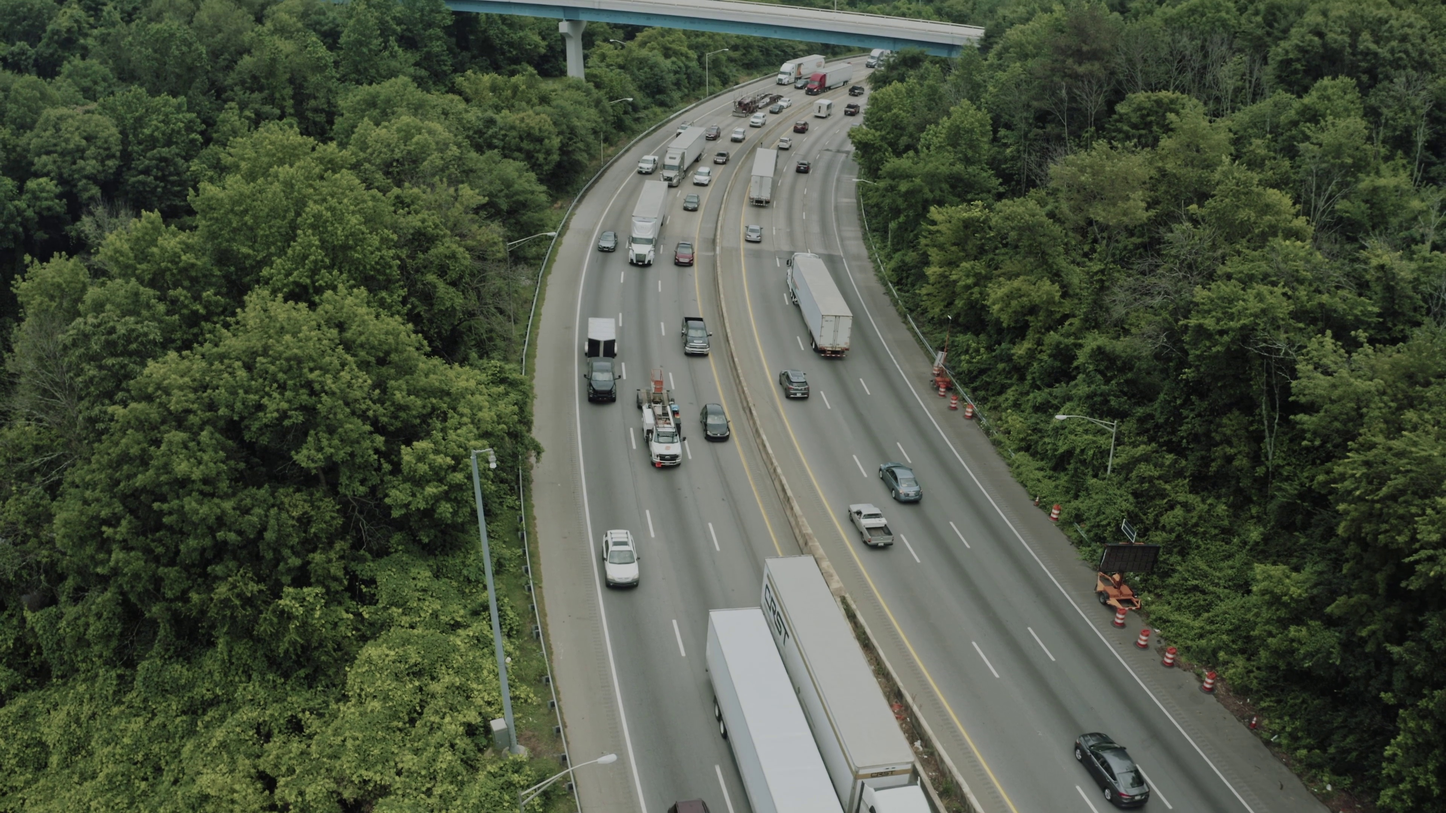Vehicle: (1074, 732, 1150, 810), (631, 373, 686, 468), (855, 763, 936, 808), (602, 529, 640, 589), (848, 503, 895, 548), (848, 503, 894, 548), (786, 252, 823, 304), (878, 461, 923, 503), (1094, 572, 1142, 611), (625, 220, 660, 268), (584, 357, 620, 403), (659, 148, 690, 191), (699, 403, 730, 442), (681, 317, 712, 356), (779, 369, 810, 399), (771, 61, 799, 85), (732, 95, 760, 118), (674, 241, 695, 266), (865, 49, 891, 68), (637, 155, 659, 175), (813, 98, 835, 118), (805, 73, 825, 95), (598, 231, 618, 252), (693, 166, 712, 186), (744, 225, 763, 242), (683, 194, 700, 211), (749, 112, 767, 128), (705, 124, 721, 140), (731, 127, 746, 142), (793, 120, 809, 134), (844, 103, 860, 116), (714, 151, 730, 164), (796, 161, 811, 174), (777, 137, 792, 150), (848, 85, 864, 97), (794, 79, 810, 89), (777, 98, 792, 108), (771, 103, 784, 114), (771, 94, 784, 104), (1202, 680, 1205, 693)
